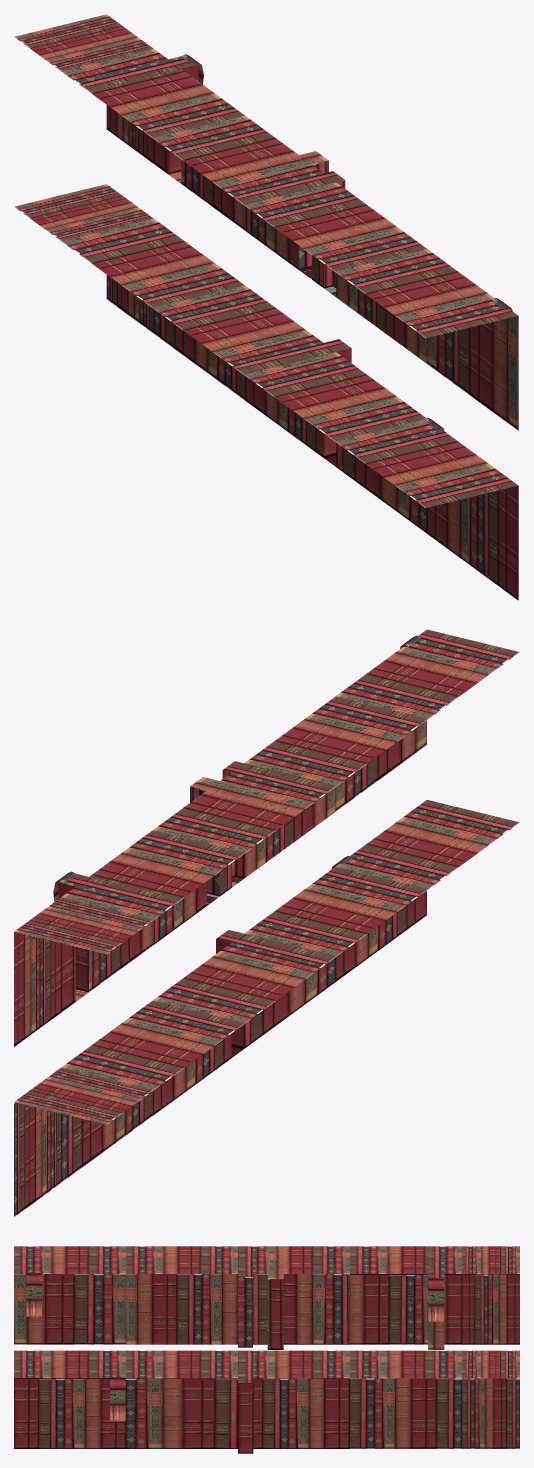
The model's file is BookCase_Books.fbx.
The picture shows the model from 3 angles, top to bottom: view 1: azimuth 30°, elevation 25°; view 2: azimuth 150°, elevation 25°; view 3: azimuth 270°, elevation 25°; orthographic projection. The views are drawn at different scales.
Visible parts, largest first — view 1: BookCase_Books; view 2: BookCase_Books; view 3: BookCase_Books.
Part boxes in pixels (bbox=[...]): BookCase_Books: bbox=[14, 14, 518, 600]; BookCase_Books: bbox=[14, 629, 519, 1217]; BookCase_Books: bbox=[14, 1246, 519, 1453].
Bounding box in the file's own units: 32.83 × 74.13 × 193.
